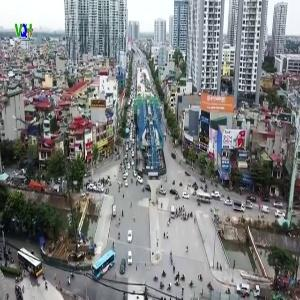drone: (12, 102, 63, 153)
